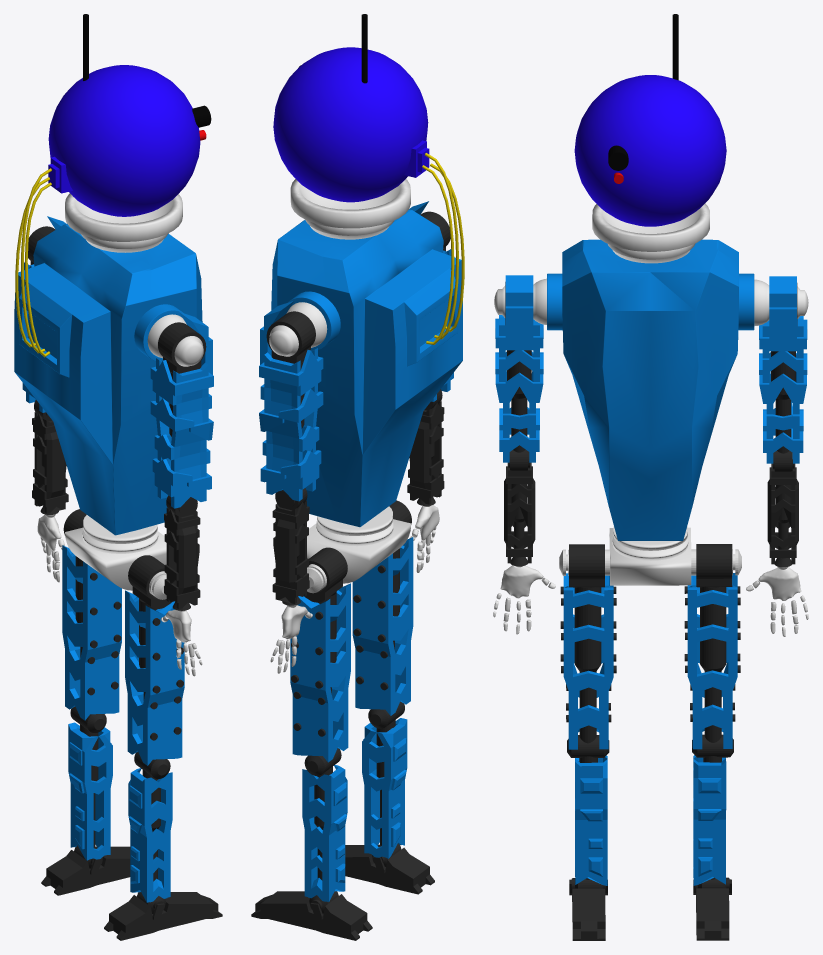
The model's file is SEEKER.fbx.
3 views of the same model, side by side, from view 1: azimuth 30°, elevation 25°; view 2: azimuth 150°, elevation 25°; view 3: azimuth 270°, elevation 25° (orthographic). The views are drawn at different scales.
Visible parts, largest first — view 1: BODY, HEAD, R. UPPER LEGS, R.UPPER ARM, L.UPPER LEGS, L.LOWER_LEGS, R.LOWER LEGS, WAIST, R.LOWER ARM, R.FOOT, L.LOWER ARM, L.FOOT (+5 smaller); view 2: BODY, HEAD, L.UPPER LEGS, L.UPPER ARM, R. UPPER LEGS, R.LOWER LEGS, L.LOWER_LEGS, WAIST, L.LOWER ARM, L.FOOT, R.LOWER ARM, R.FOOT (+6 smaller); view 3: BODY, HEAD, L.UPPER LEGS, R. UPPER LEGS, L.UPPER ARM, R.UPPER ARM, L.LOWER_LEGS, R.LOWER LEGS, WAIST, L.LOWER ARM, R.LOWER ARM, L.FOOT (+5 smaller).
Part boxes in pixels (x1,y1,x2,y2): BODY: (14, 224, 202, 535); HEAD: (48, 65, 200, 252); R. UPPER LEGS: (125, 555, 184, 765); R.UPPER ARM: (150, 312, 213, 508); L.UPPER LEGS: (62, 509, 121, 720); L.LOWER_LEGS: (68, 706, 112, 860); R.LOWER LEGS: (128, 752, 172, 902); WAIST: (65, 515, 166, 590); R.LOWER ARM: (164, 495, 200, 610); R.FOOT: (104, 892, 222, 940); L.LOWER ARM: (32, 400, 68, 514); L.FOOT: (41, 845, 130, 895); BODY: (271, 209, 462, 527); HEAD: (273, 47, 429, 239); L.UPPER LEGS: (290, 547, 350, 762); L.UPPER ARM: (259, 300, 323, 501); R. UPPER LEGS: (352, 500, 413, 715); R.LOWER LEGS: (362, 701, 407, 858); L.LOWER_LEGS: (302, 748, 347, 901); WAIST: (307, 506, 411, 583); L.LOWER ARM: (272, 488, 309, 605); L.FOOT: (251, 891, 372, 940); R.LOWER ARM: (407, 389, 444, 505); R.FOOT: (345, 843, 434, 894); BODY: (547, 239, 754, 540); HEAD: (574, 75, 726, 263); L.UPPER LEGS: (684, 544, 741, 749); R. UPPER LEGS: (559, 544, 616, 749); L.UPPER ARM: (759, 276, 807, 463); R.UPPER ARM: (495, 275, 543, 462); L.LOWER_LEGS: (692, 734, 733, 885); R.LOWER LEGS: (567, 735, 609, 885); WAIST: (609, 526, 691, 585); L.LOWER ARM: (767, 451, 798, 567); R.LOWER ARM: (504, 449, 535, 566); L.FOOT: (693, 877, 731, 940).
Bounding box in the file's own units: 292 × 1442 × 466.
